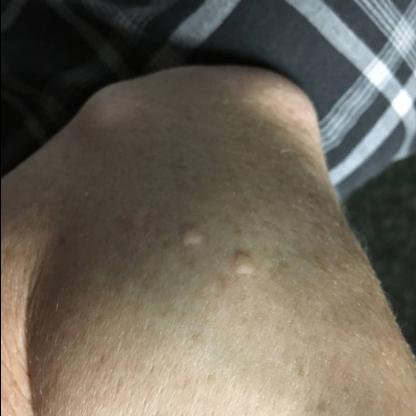Bed Bug: (115, 197, 152, 237), (176, 220, 207, 252), (228, 248, 254, 278)
